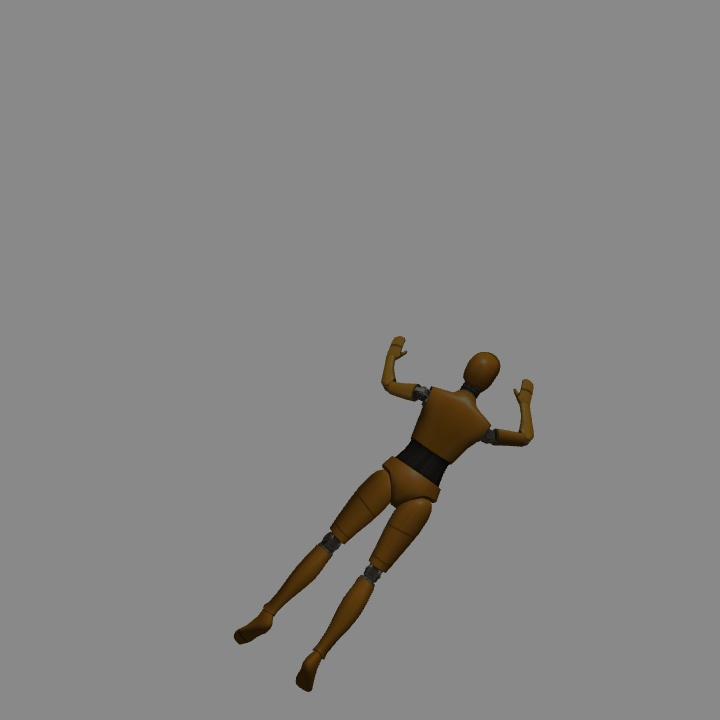victim: (232, 335, 533, 693)
